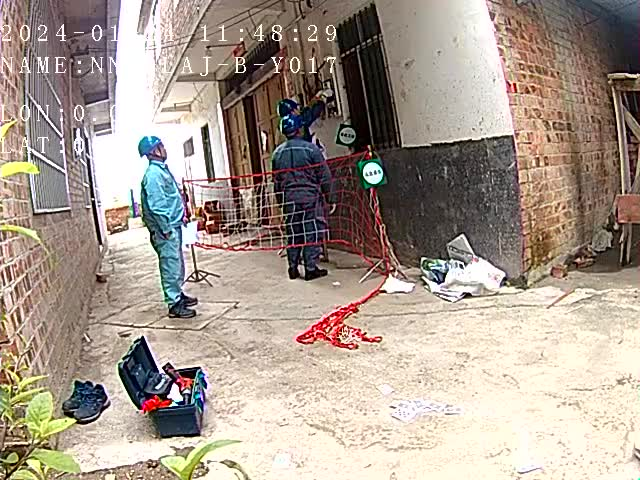downsuit: (152, 222, 191, 301), (280, 200, 319, 267)
glove: (318, 88, 334, 98), (315, 88, 325, 98)
halt: (138, 135, 168, 162), (282, 115, 305, 138), (278, 99, 300, 119)
inear: (148, 145, 164, 159)
intosign: (356, 157, 391, 191)
person: (134, 132, 199, 315), (270, 117, 328, 280), (271, 95, 339, 216)
upsuit: (271, 143, 331, 204), (141, 162, 185, 222)
worksign: (335, 122, 360, 148)
